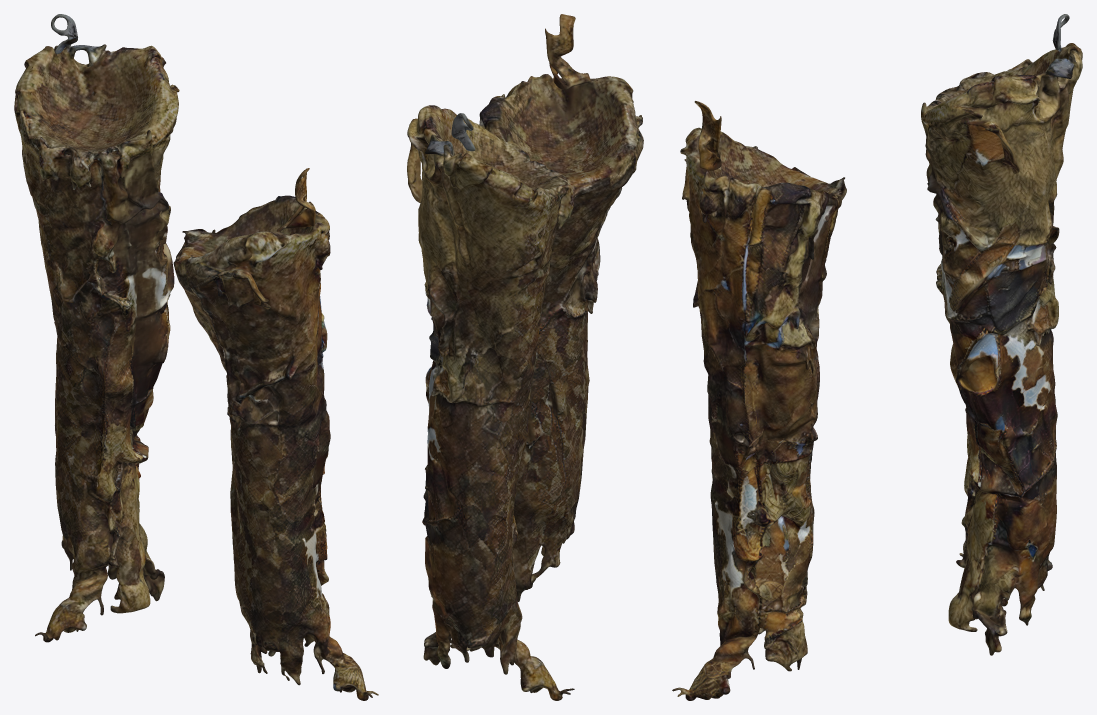
The model's file is leggings.glb.
The picture shows the model from 3 angles, left to right: view 1: azimuth 30°, elevation 25°; view 2: azimuth 150°, elevation 25°; view 3: azimuth 270°, elevation 25°; orthographic projection. The views are drawn at different scales.
Parts seen in each view (by area): view 1: tripo_node_308f5ac5-62c8-437d-a8ad-f865abd70bad; view 2: tripo_node_308f5ac5-62c8-437d-a8ad-f865abd70bad; view 3: tripo_node_308f5ac5-62c8-437d-a8ad-f865abd70bad.
Part boxes in pixels (box(x1,y1,x2,y2)): tripo_node_308f5ac5-62c8-437d-a8ad-f865abd70bad: box(14, 14, 378, 700); tripo_node_308f5ac5-62c8-437d-a8ad-f865abd70bad: box(407, 14, 643, 700); tripo_node_308f5ac5-62c8-437d-a8ad-f865abd70bad: box(672, 14, 1082, 700).
Size of the model in its own units: 0.3647 by 0.9998 by 0.5992.
Materials: 1 (1 with a texture image).
